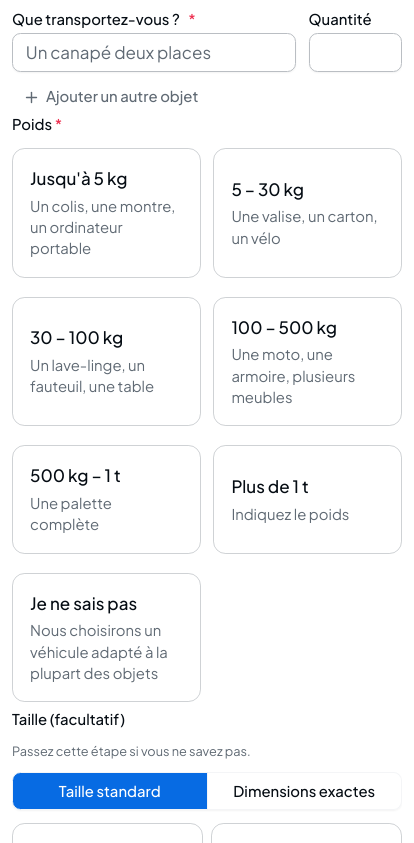
Scenario: weight › asks for the figure once the load is freight
The width and height of the screenshot is (414, 843).
What coordinates should you click on to do the following:
click the radio button named "Plus de 1 t" next to "Plus de 1 t"
I would click on:
 (239, 499)
Its box is [230,491,247,508].
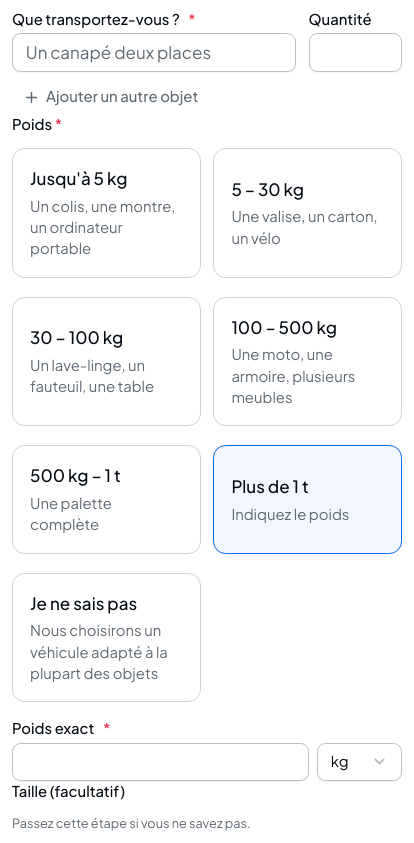
Expected: the field labelled "Poids exact *" is shown, [12,742,308,781]
